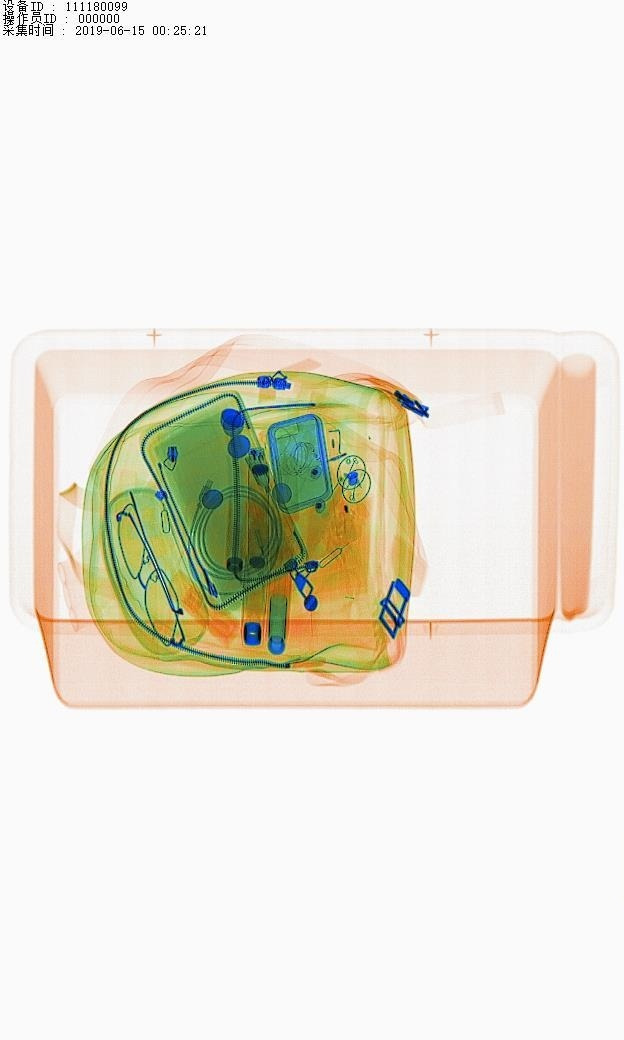NonmetallicFire: (232, 430, 300, 521)
